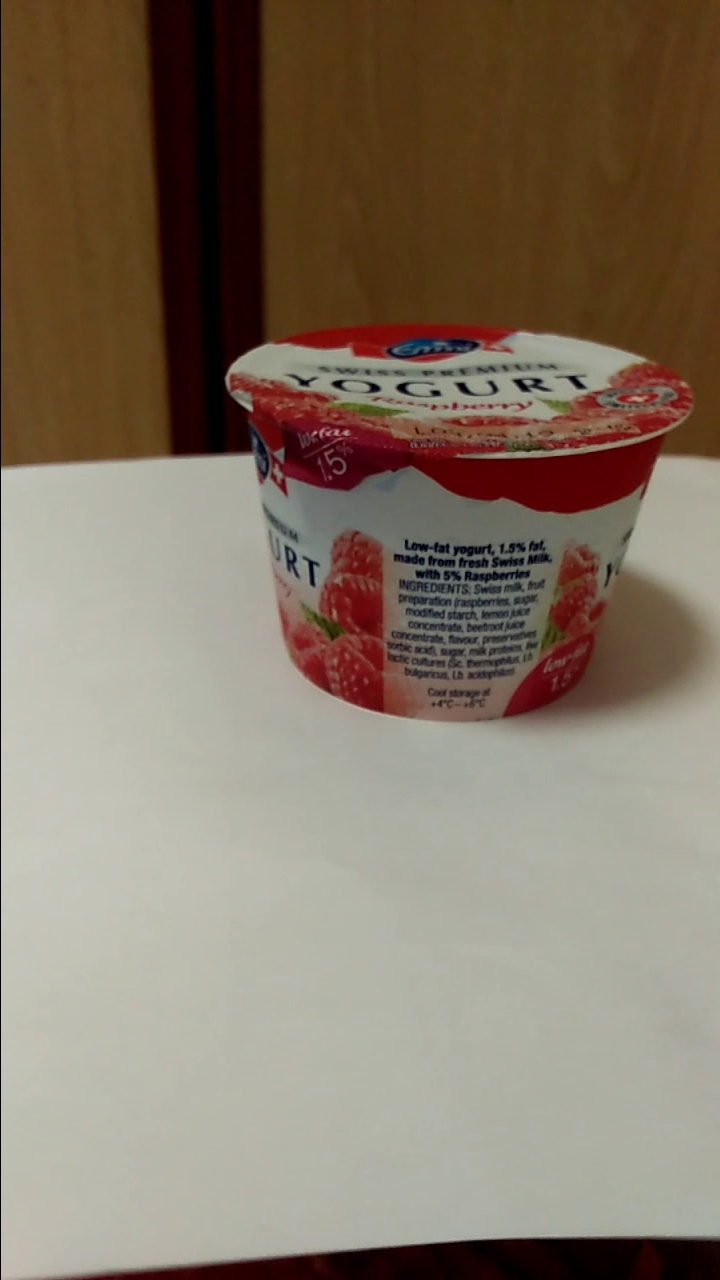yogurt: (233, 323, 688, 735)
